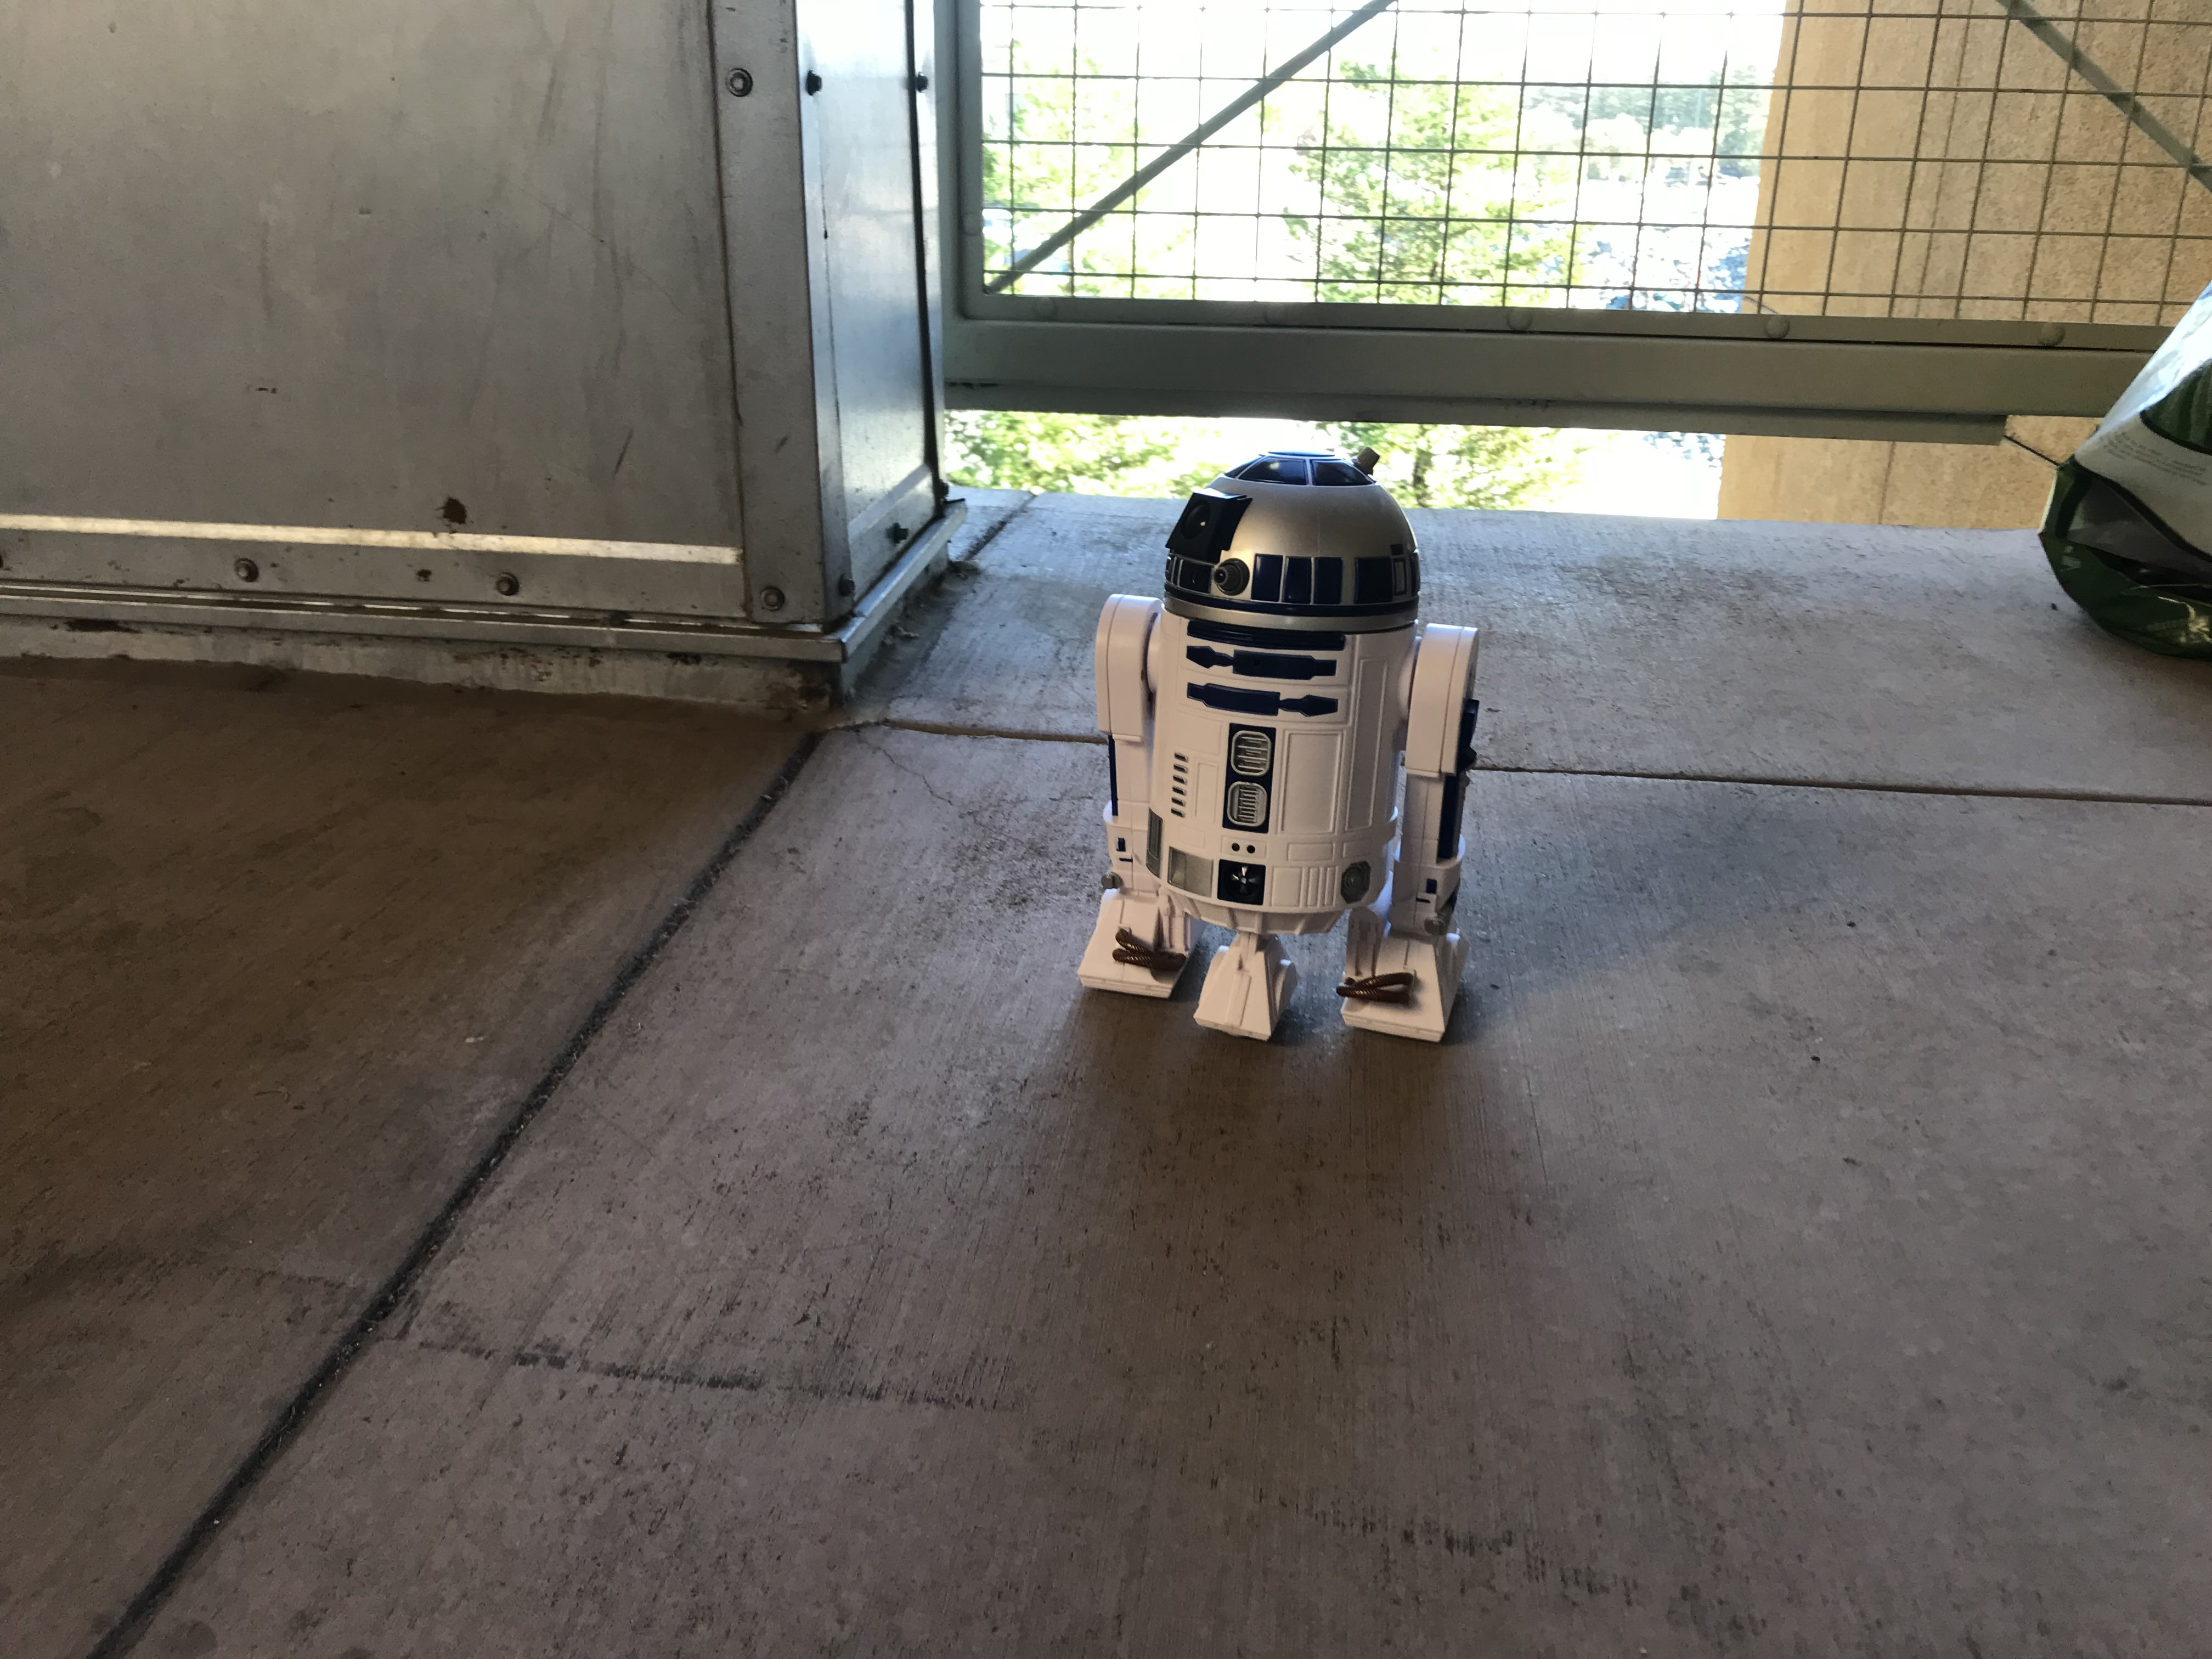r2d2: (1076, 450, 1480, 1042)
